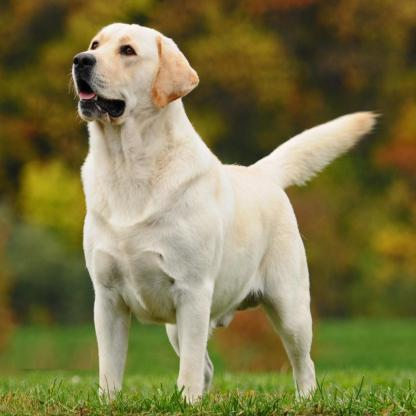Rotveler: (69, 17, 380, 404)
